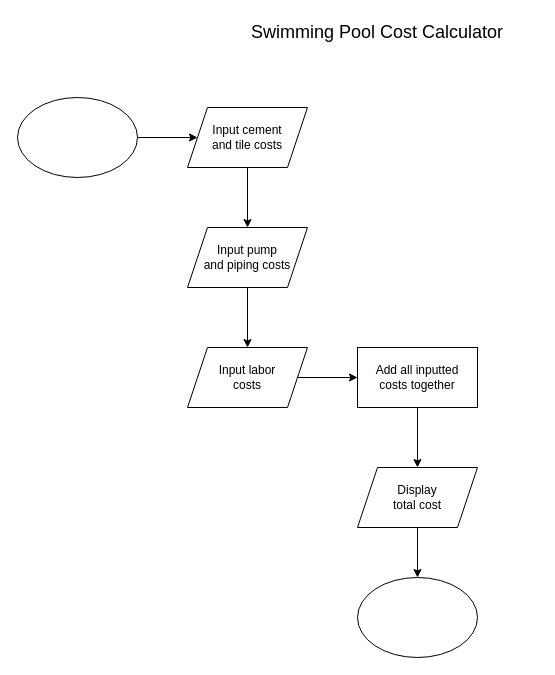
The diagram is 555 pixels wide and 675 high, and some of its shapes have lost their labels. The centre of each missing label's shape, as x and y in pixels:
"End" belongs at (417,617).
"Start" belongs at (77,137).
